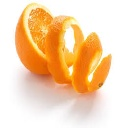orange: (14, 4, 67, 76)
